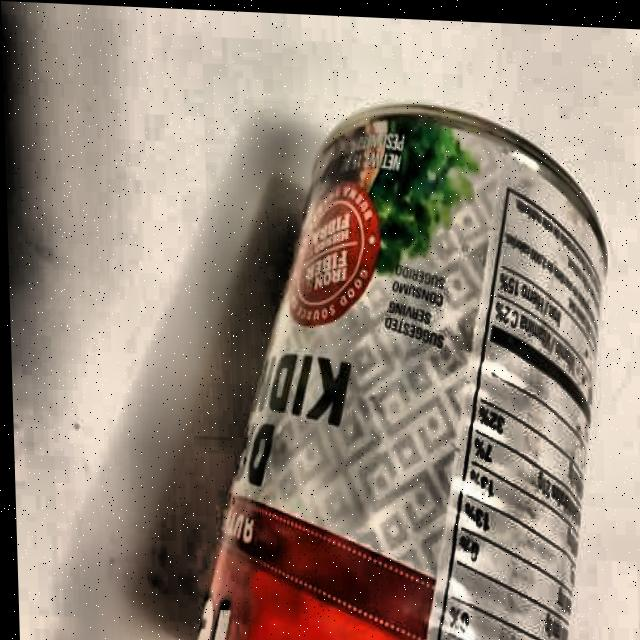metal: (172, 91, 620, 640)
